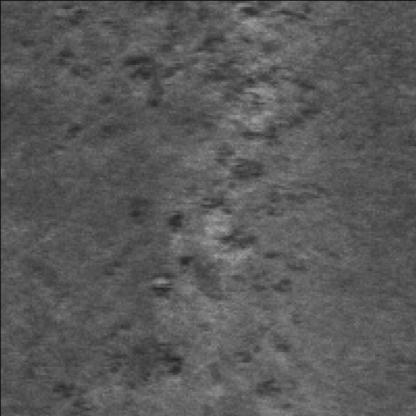rolled-in_scale: (48, 2, 335, 160), (143, 143, 296, 332), (196, 312, 302, 416), (96, 323, 185, 396)
